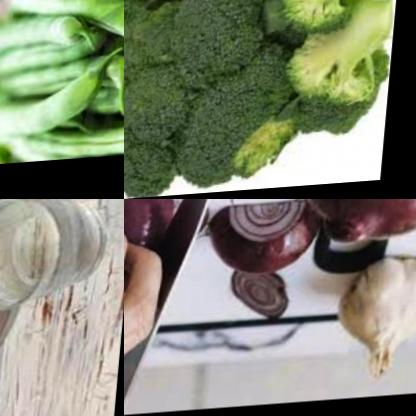beans: (0, 0, 124, 171)
broccoli: (124, 0, 415, 199), (286, 0, 401, 122), (253, 0, 408, 39)
garlic: (328, 262, 416, 392)
onion: (197, 199, 320, 289), (286, 199, 416, 259), (219, 273, 299, 348), (124, 199, 176, 291)
